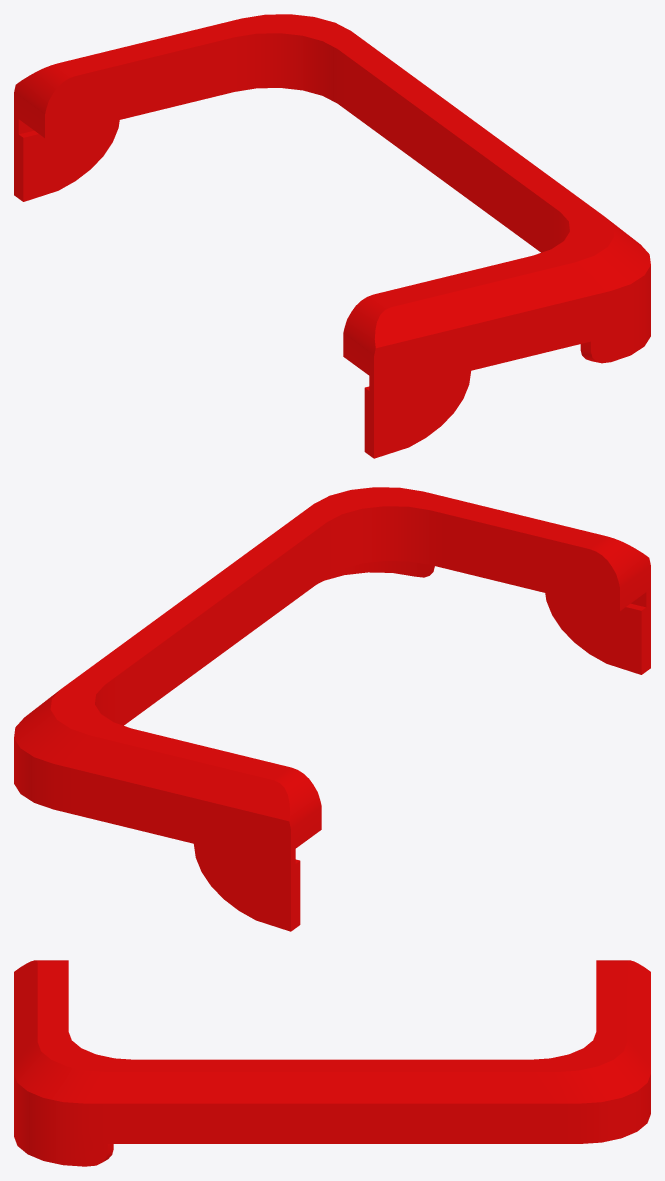
Rendered from SM_blender_01_handle.glb.
3 renders of one model, top to bottom at view 1: azimuth 30°, elevation 25°; view 2: azimuth 150°, elevation 25°; view 3: azimuth 270°, elevation 25°, orthographic. The views are drawn at different scales.
Parts seen in each view (by area): view 1: SM_blender_01_handle_LOD0; view 2: SM_blender_01_handle_LOD0; view 3: SM_blender_01_handle_LOD0.
Boxes of the visible parts, x1,y1,x2,y2 form: SM_blender_01_handle_LOD0: [14, 14, 650, 458]; SM_blender_01_handle_LOD0: [14, 487, 650, 931]; SM_blender_01_handle_LOD0: [14, 960, 650, 1166].
Size of what is drawn, in the model's own units: 0.0729 by 0.0305 by 0.1482.
